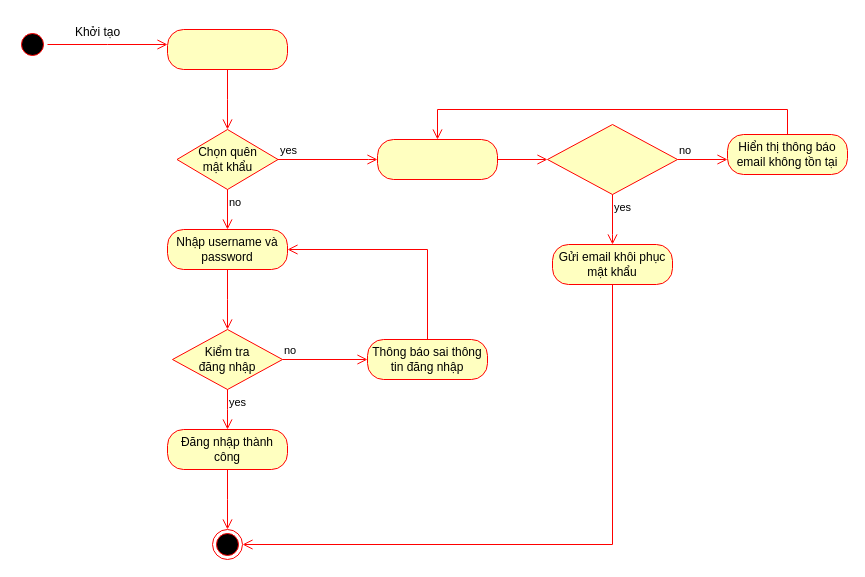
The diagram is 865 pixels wide and 577 high, and some of its shapes have lost their labels. Each missing label, with the centre of its shape:
Email có trong hệ thống: pixel 612 159
Màn hình đăng nhập: pixel 227 49
Nhập email: pixel 437 159
